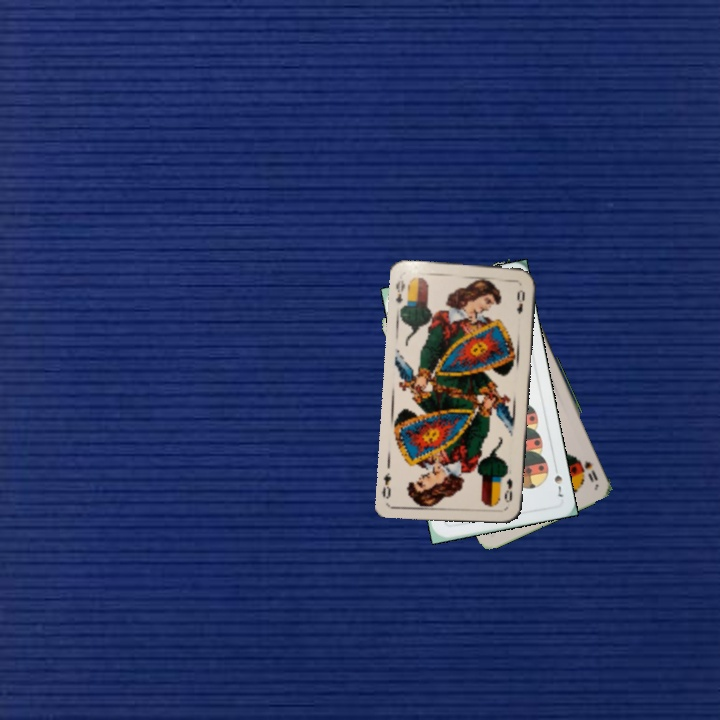EO: (391, 276, 408, 305), (500, 474, 515, 505)
S7: (550, 461, 565, 500)
SO: (580, 456, 601, 484)
